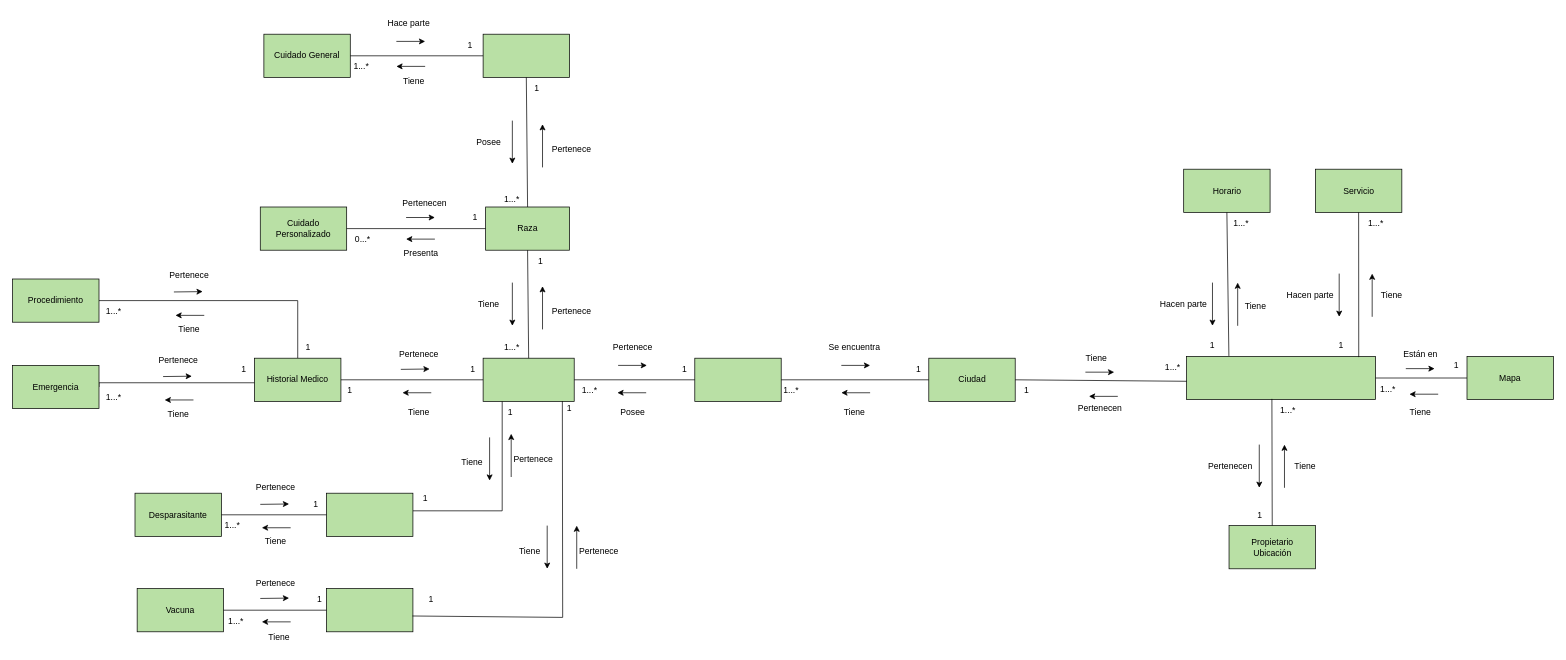
This 1566x660 diagram has some shape labels left out. Here are the shapes that lost their labels. From the top down, the centre of each, then its label:
At [526,55]: "Especie".
At [528,379]: "Mascota".
At [737,379]: "Dueño".
At [1281,378]: "Ubicación".
At [369,514]: "Esquema Desparacitación".
At [369,610]: "Esquema Vacunación".
